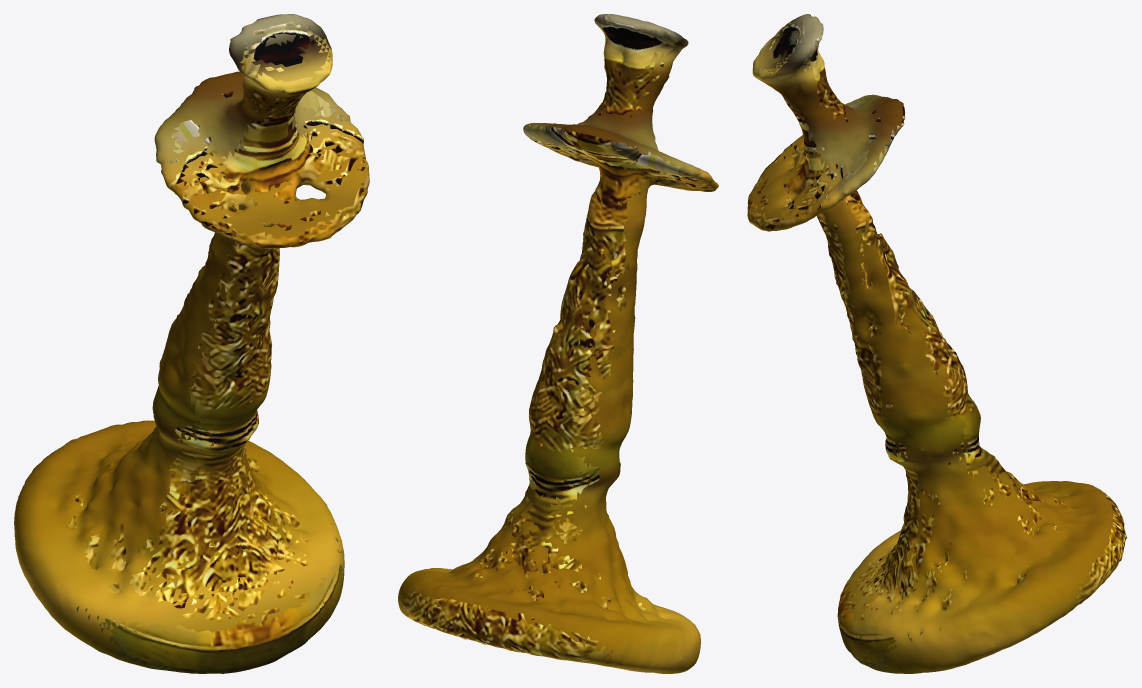
The model's file is kfl-2155.glb.
The picture shows the model from 3 angles, left to right: view 1: azimuth 30°, elevation 25°; view 2: azimuth 150°, elevation 25°; view 3: azimuth 270°, elevation 25°; orthographic projection. The views are drawn at different scales.
Visible parts, largest first — view 1: kfl-2155; view 2: kfl-2155; view 3: kfl-2155.
Boxes of the visible parts, x1,y1,x2,y2 form: kfl-2155: [14, 14, 369, 673]; kfl-2155: [398, 14, 718, 673]; kfl-2155: [747, 14, 1127, 673].
Size of the model in its own units: 0.4514 by 0.9929 by 0.5528.
4 materials, 4 textured.
